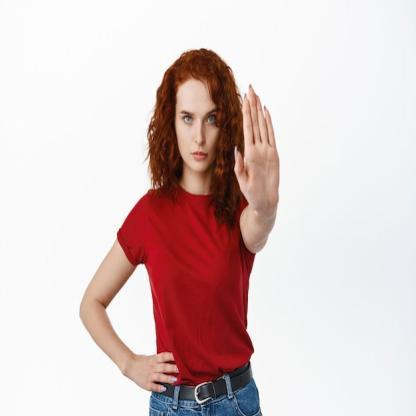stop: (230, 78, 288, 226)
